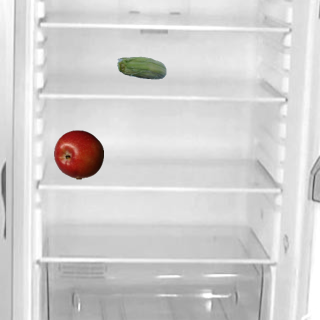Apple Braeburn: (53, 129, 103, 179)
Corn Husk: (116, 44, 166, 94)
